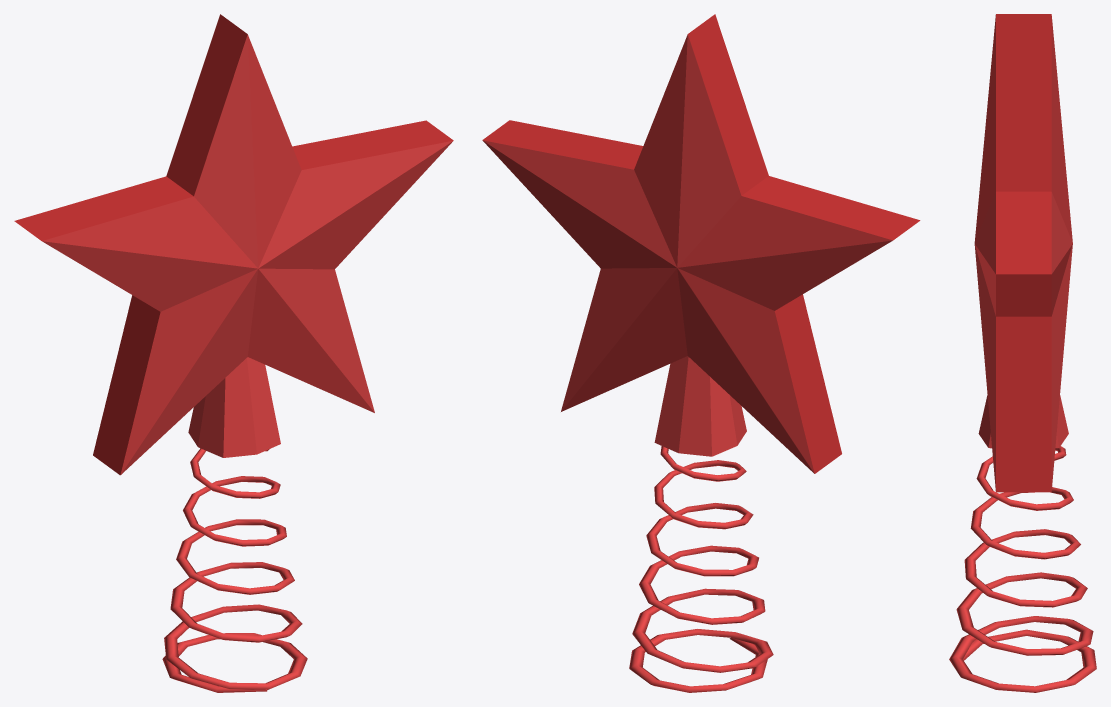
Rendered from Starn2.fbx.
3 views of the same model, side by side, from view 1: azimuth 30°, elevation 25°; view 2: azimuth 150°, elevation 25°; view 3: azimuth 270°, elevation 25° (orthographic).
Visible parts, largest first — view 1: Starn2; view 2: Starn2; view 3: Starn2.
Boxes of the visible parts, x1,y1,x2,y2 form: Starn2: (14, 14, 453, 692); Starn2: (482, 14, 920, 692); Starn2: (949, 14, 1096, 692).
Bounding box in the file's own units: 83.77 × 125 × 25.69.
